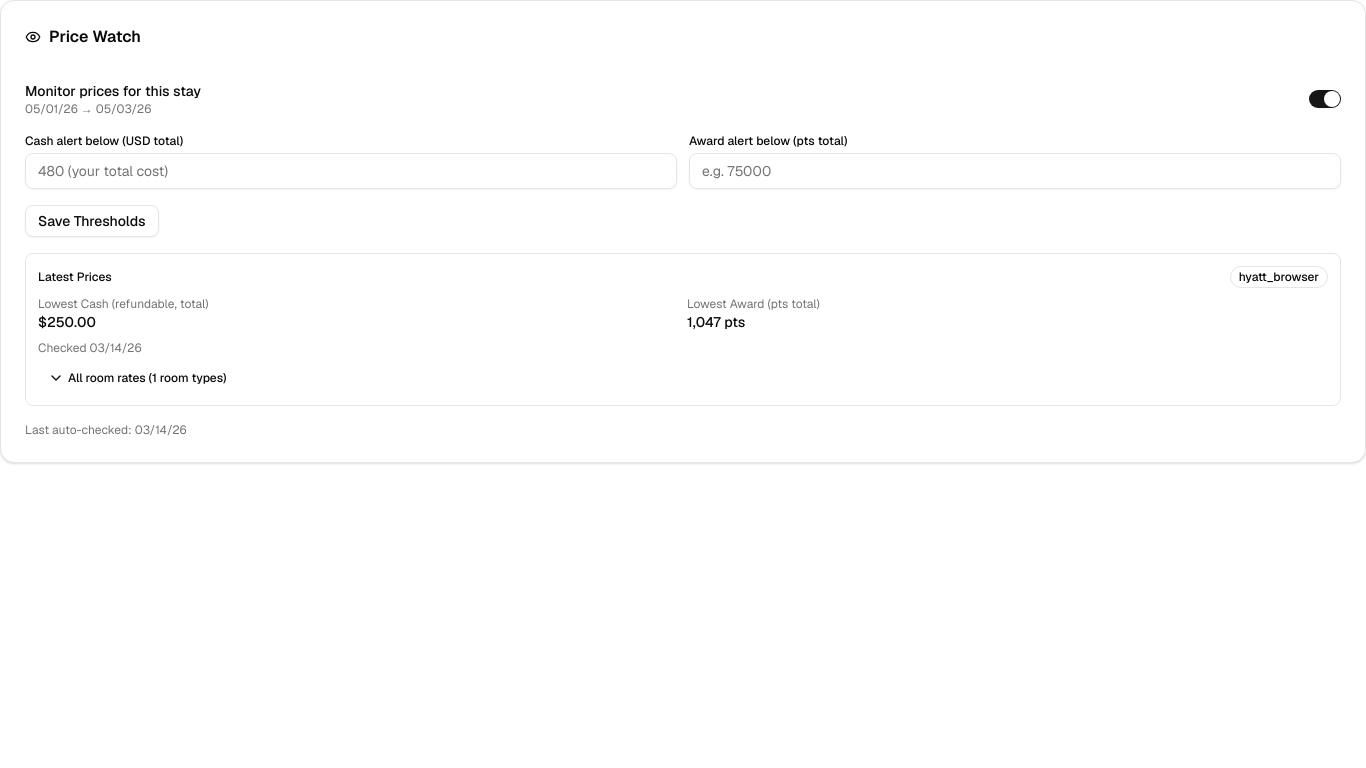
it: BookingPriceWatch › shows inline award price on each cash rate row when every rate has both cash and award (Accor/GHA style)
This screenshot has width=1366, height=768.
Click the button with test id "toggle-room-rates": [110, 378] box [38,364,1328,392]
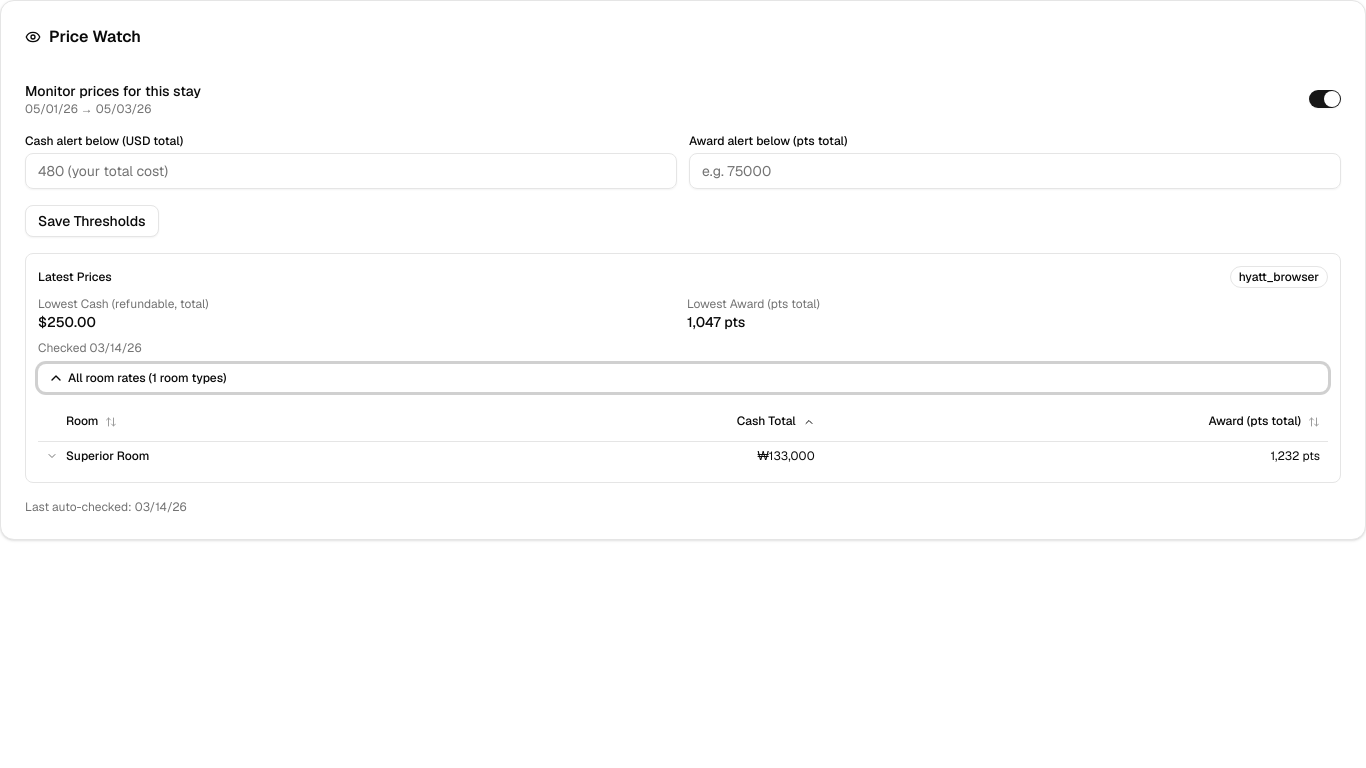
Expected: the row with test id "room-group-row" shows "1,232 pts", [1270,448,1320,464]
Click the row with test id "room-group-row": [108, 456] box [38,441,1328,470]
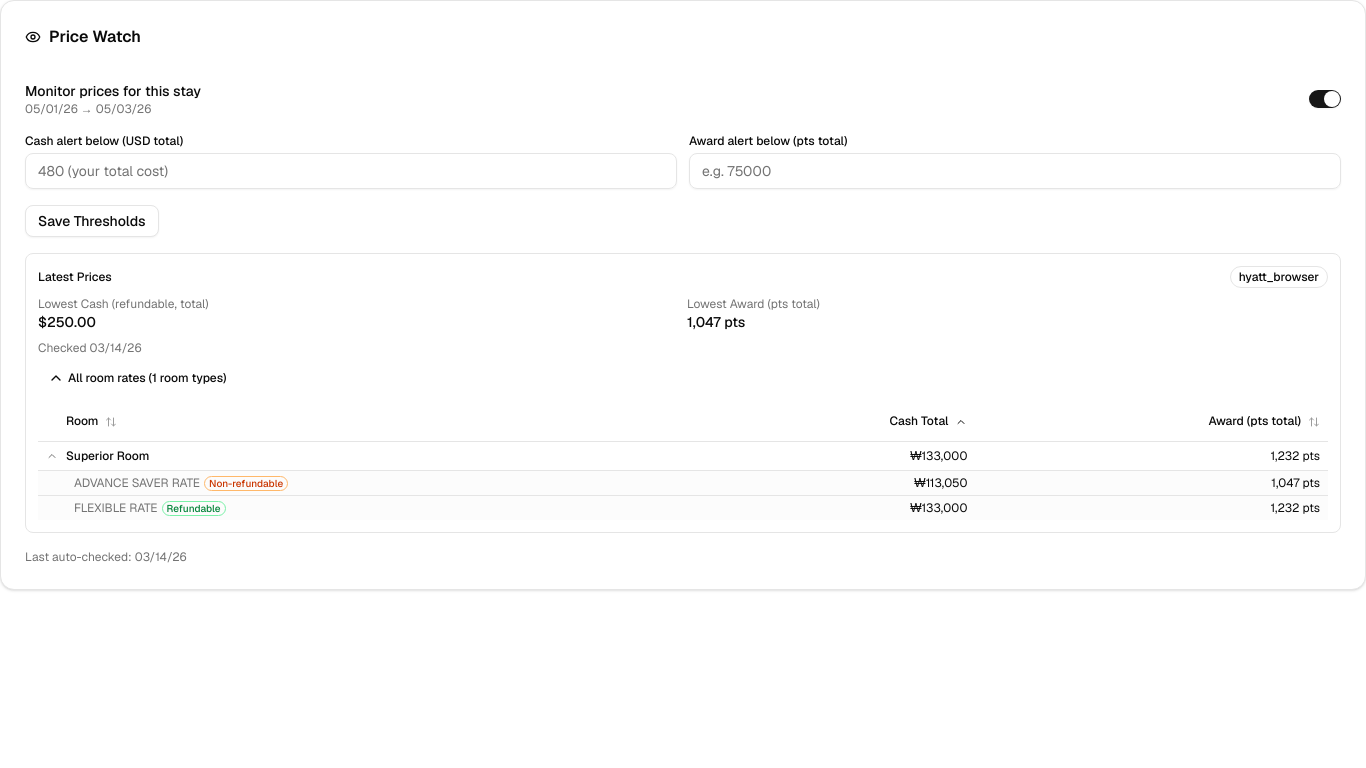
Expected: the row with test id "room-rate-row" shows "1,047 pts", [1271,475,1320,491]
Expected: the row with test id "room-rate-row" shows "1,232 pts", [1270,500,1320,516]
Expected: the number of rows with test id "room-rate-row" is 2, [38,470,1328,495]; [38,495,1328,520]
